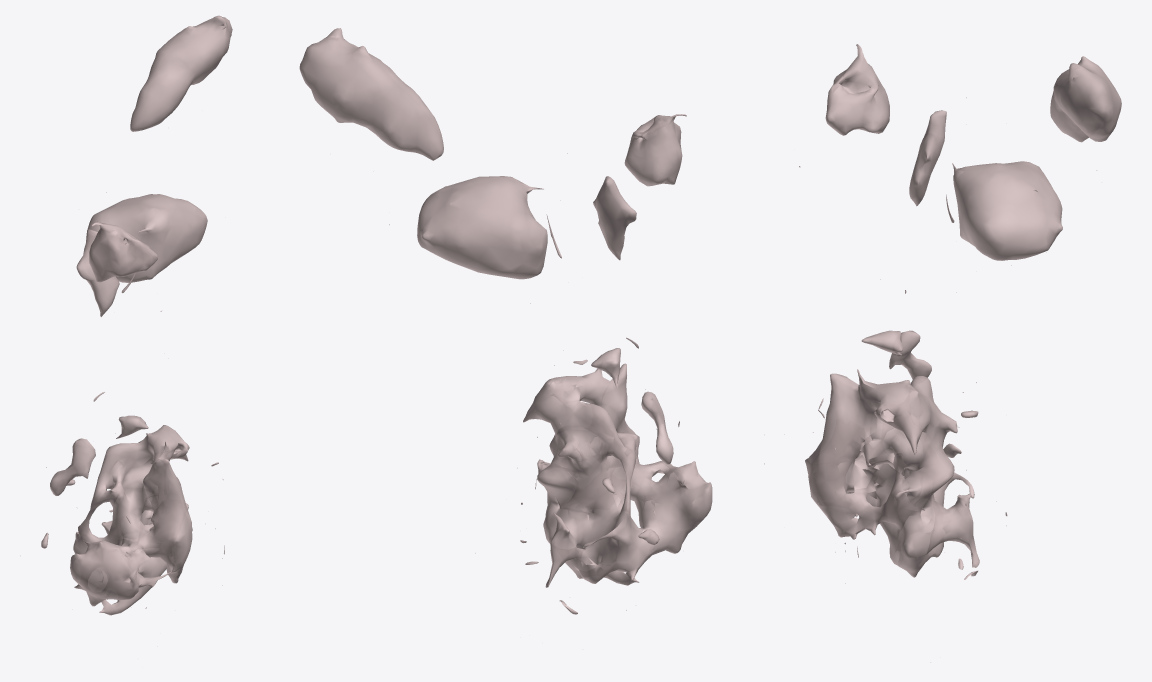
Rendered from seg_1.obj.
3 views of the same model, side by side, from view 1: azimuth 30°, elevation 25°; view 2: azimuth 150°, elevation 25°; view 3: azimuth 270°, elevation 25° (orthographic). The views are drawn at different scales.
Visible parts, largest first — view 1: grp1; view 2: grp1; view 3: grp1.
Boxes of the visible parts, x1,y1,x2,y2 form: grp1: (20,15,232,615); grp1: (299,28,712,614); grp1: (764,44,1121,662).
Bounding box in the file's own units: 39.01 × 76.01 × 37.01.
